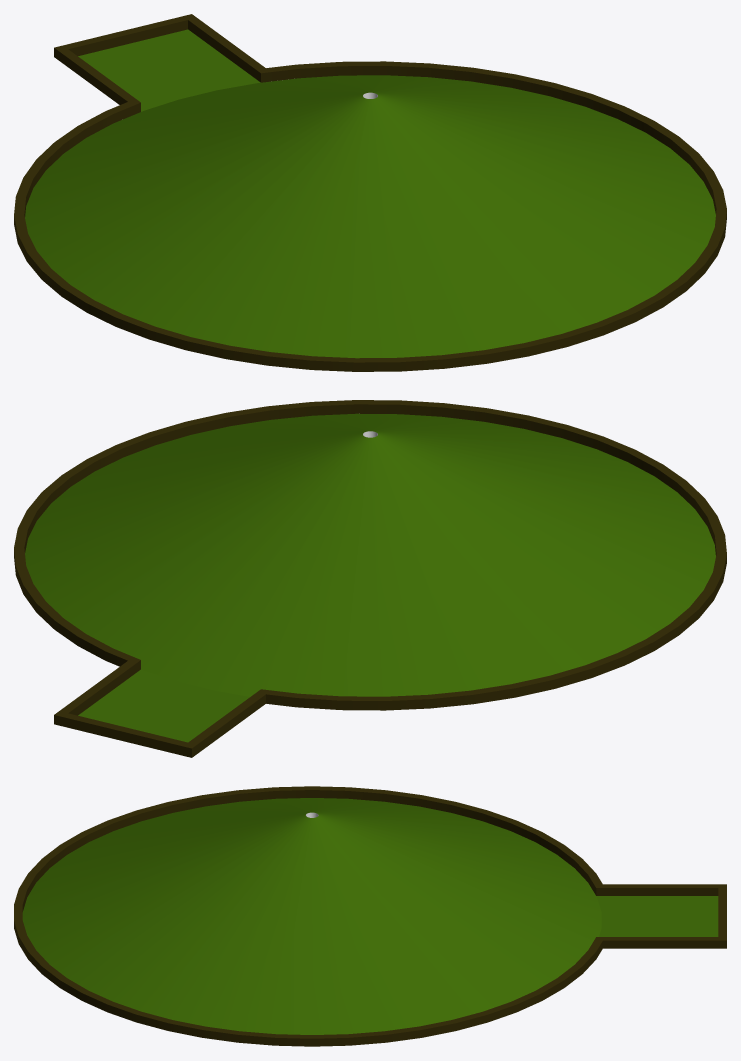
Rendered from hole3.fbx.
3 views of the same model, one above another, from view 1: azimuth 30°, elevation 25°; view 2: azimuth 150°, elevation 25°; view 3: azimuth 270°, elevation 25° (orthographic). The views are drawn at different scales.
Visible parts, largest first — view 1: green3, wall3; view 2: green3, wall3; view 3: green3, wall3.
Part boxes in pixels (<box>): green3: <box>25,29,715,358</box>; wall3: <box>14,14,726,371</box>; green3: <box>25,413,715,742</box>; wall3: <box>14,400,726,757</box>; green3: <box>22,798,718,1034</box>; wall3: <box>14,786,726,1046</box>.
Bounding box in the file's own units: 103 × 20 × 123.
